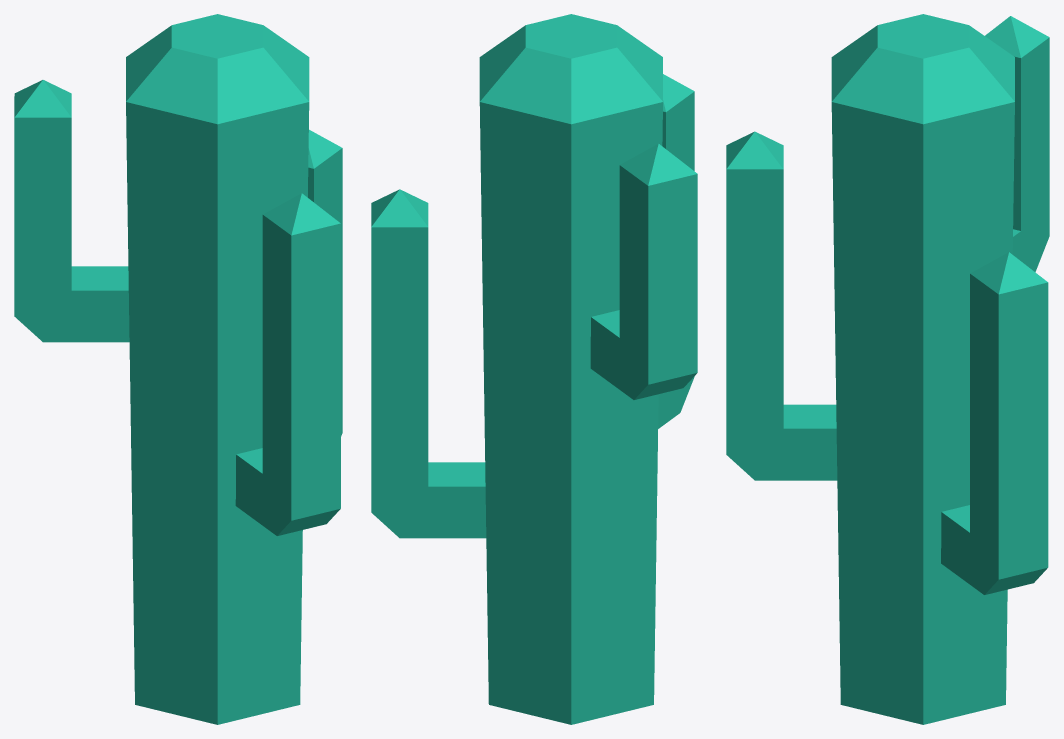
Rendered from cactus.obj.
3 views of the same model, side by side, from view 1: azimuth 30°, elevation 25°; view 2: azimuth 150°, elevation 25°; view 3: azimuth 270°, elevation 25° (orthographic).
Parts seen in each view (by area): view 1: cactus_tall_0; view 2: cactus_tall_0; view 3: cactus_tall_0.
Boxes of the visible parts, x1,y1,x2,y2 form: cactus_tall_0: [14, 14, 342, 724]; cactus_tall_0: [371, 14, 697, 724]; cactus_tall_0: [726, 14, 1049, 724].
Bounding box in the file's own units: 0.3963 × 0.75 × 0.3391.
